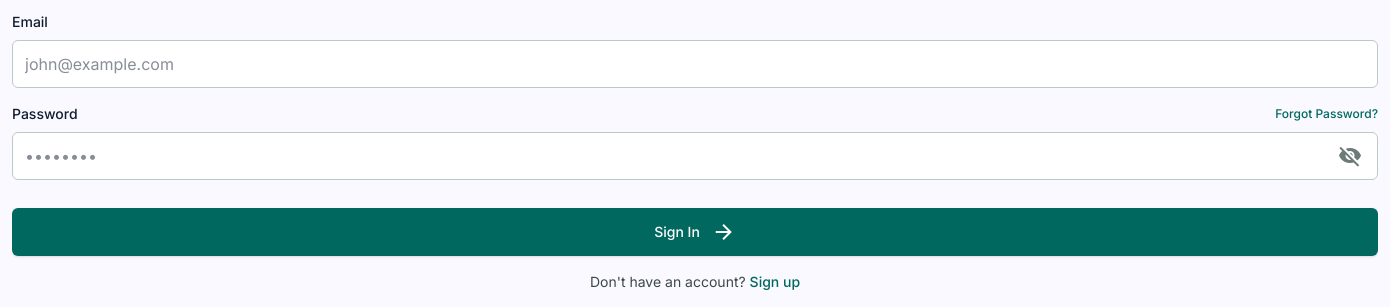
Scenario: Phase 3 — Frontend Foundation & Auth UI Tests › LoginForm renders Sign In and Forgot Password link, and submits credentials
Type "alice@example.com" into the field labelled "Email".
click(695, 64); type("alice@example.com")  # box x1=12 y1=40 x2=1378 y2=88
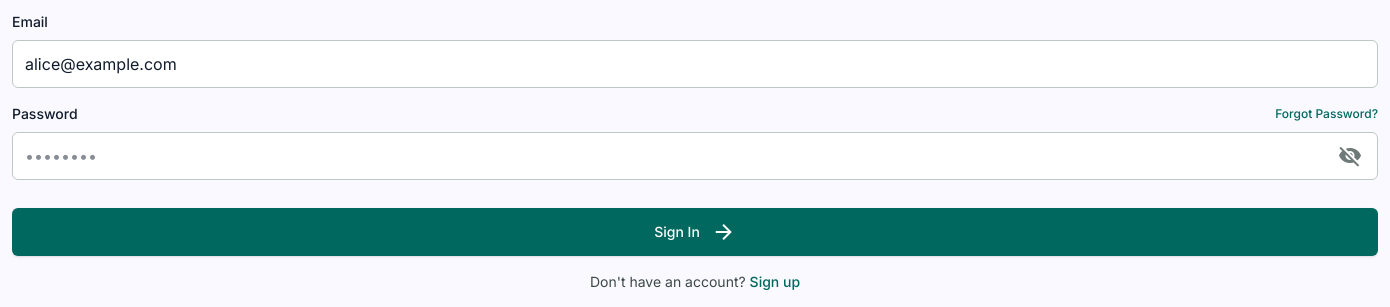
Type "secret123" into the password field labelled "Password".
click(695, 156); type("secret123")  # box x1=12 y1=132 x2=1378 y2=180
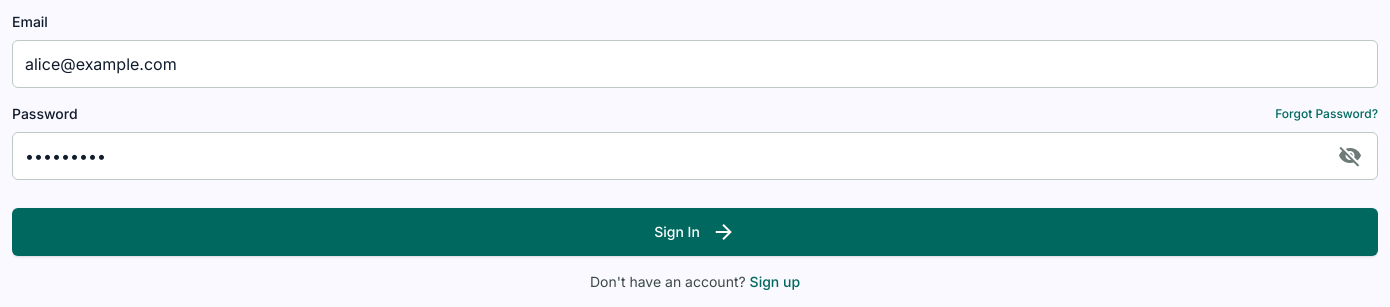
Click the button "Sign In".
click(695, 232)  # box x1=12 y1=208 x2=1378 y2=256
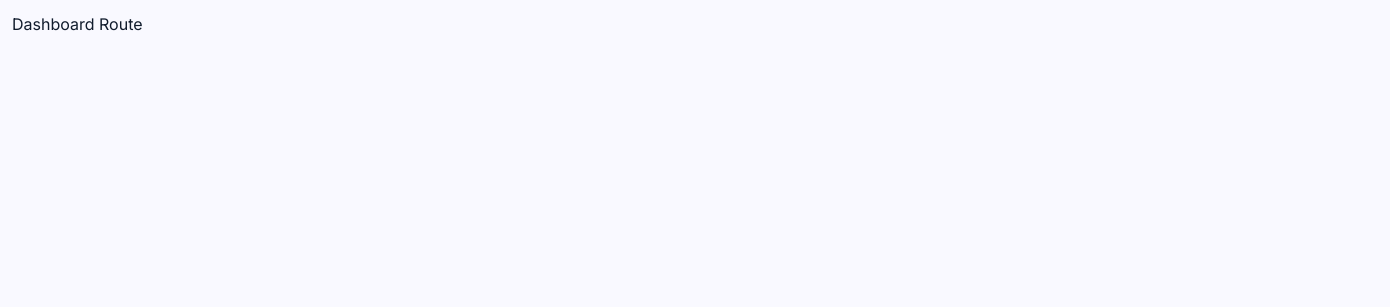
Now the text "Dashboard Route" is shown, box x1=12 y1=14 x2=142 y2=34
